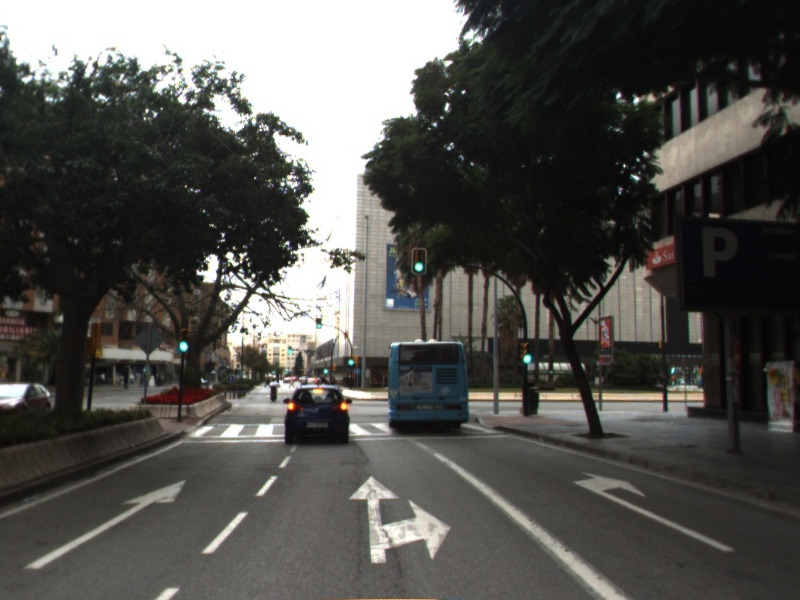RIGHT: (570, 469, 739, 554)
STRAIGHT: (24, 475, 190, 571)
STRAIGHT_RIGHT: (345, 473, 456, 565)
